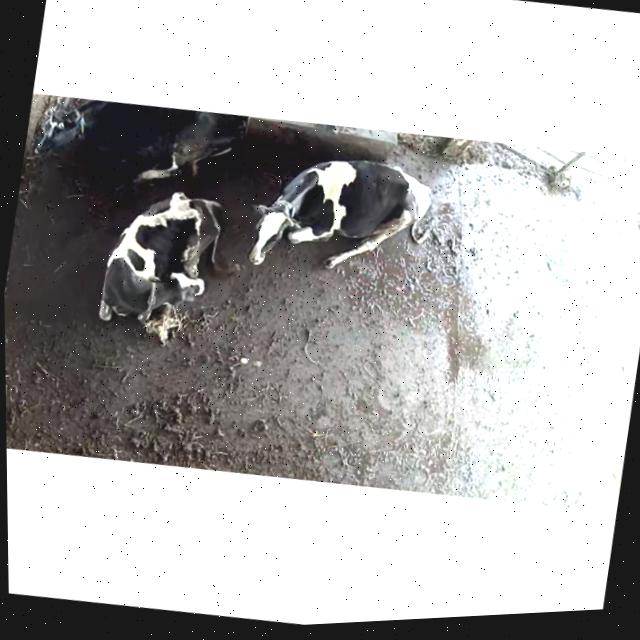lay: (238, 139, 464, 308), (82, 170, 248, 354), (25, 83, 244, 200)
